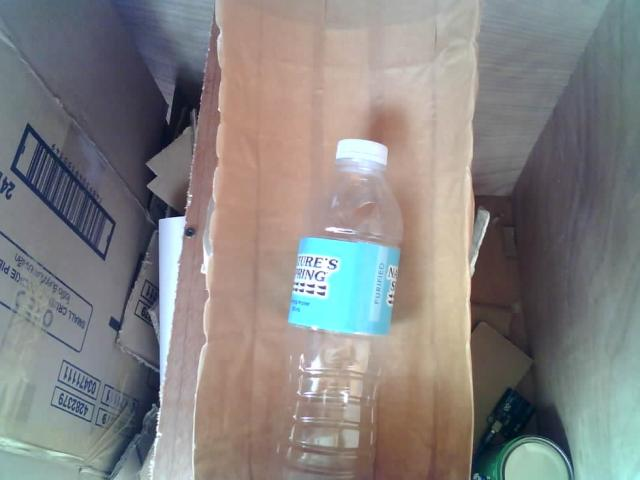small_bottle: (255, 130, 416, 480)
